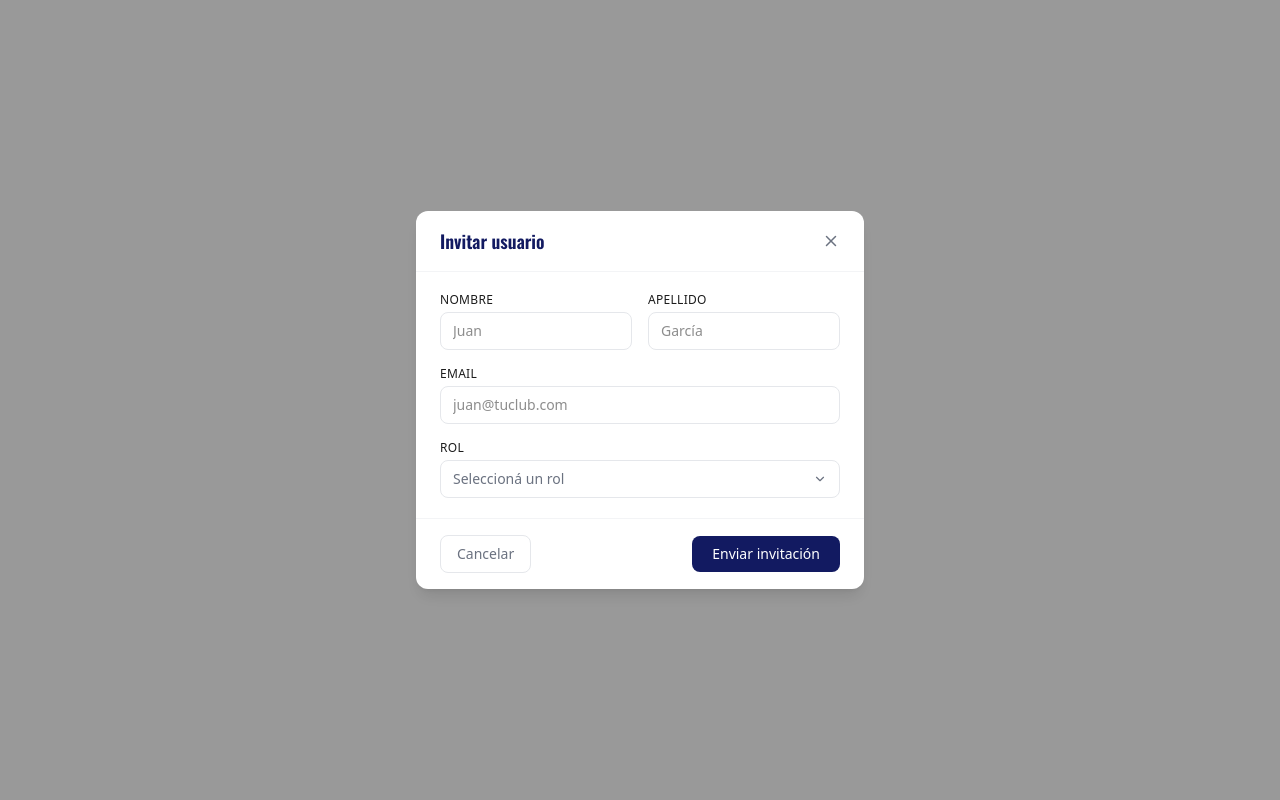
Test: InvitarUsuarioModal › el select de rol lista todos los ROLES_PERMITIDOS
Click the button labelled "Seleccioná un rol": (509, 478) [440, 460, 840, 498]
(page scrolled)
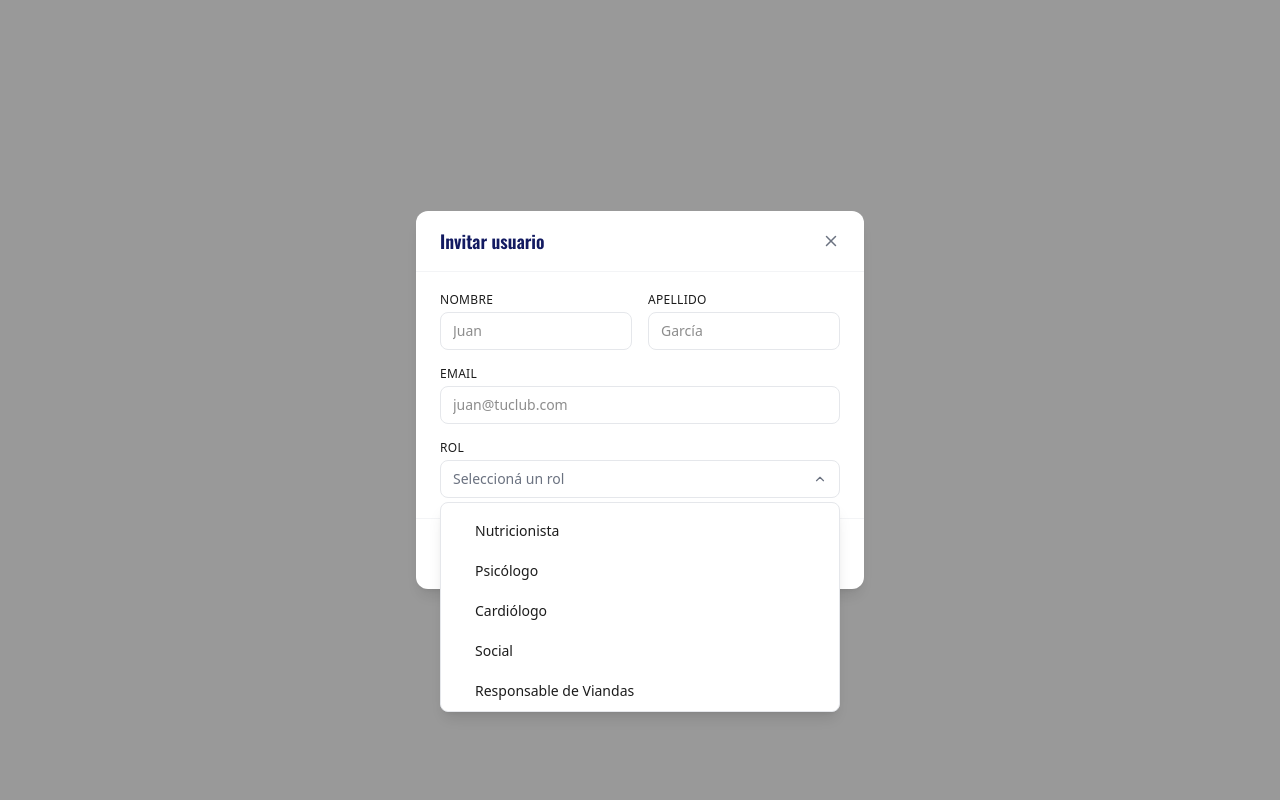
Now the text "Nutricionista" is shown, box [475, 521, 559, 541]
Now the text "Psicólogo" is shown, box [475, 561, 538, 581]
Now the text "Cardiólogo" is shown, box [475, 601, 547, 621]
